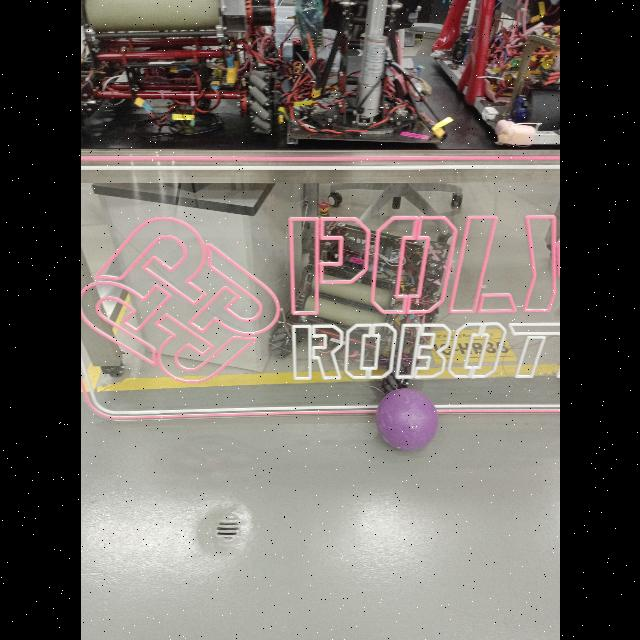P: (375, 390, 437, 452)
